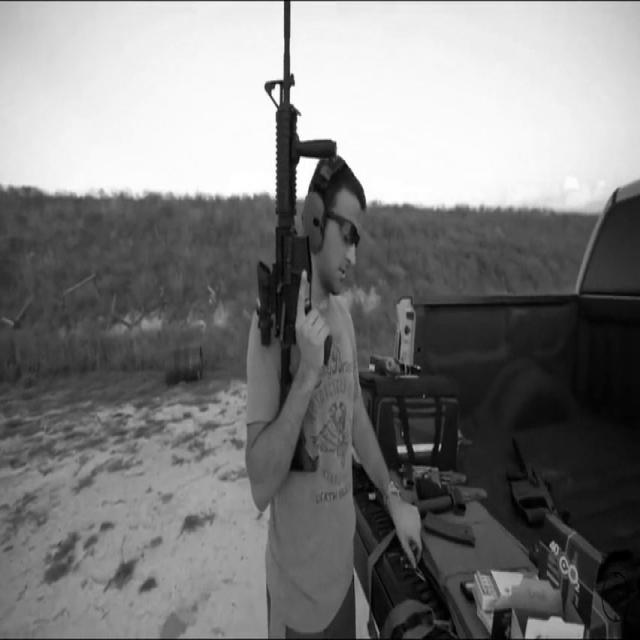Sniper: (181, 0, 426, 489)
